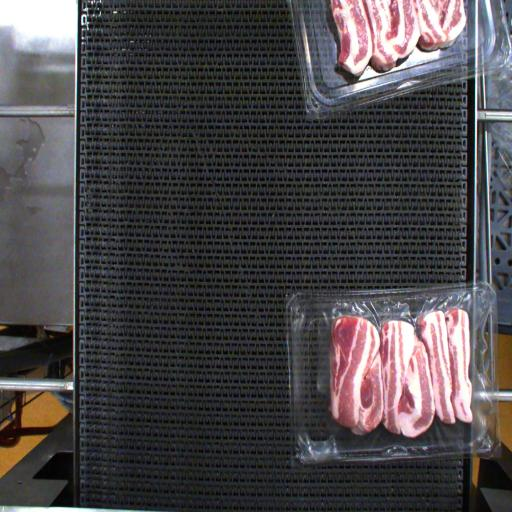unsealed: (286, 286, 496, 451)
